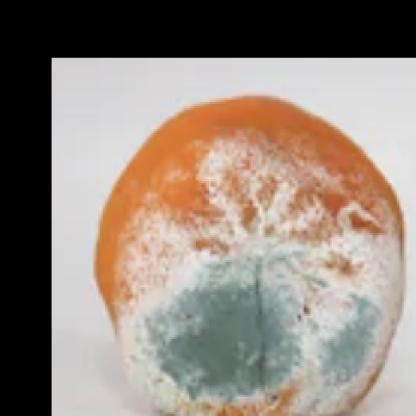rotten: (97, 96, 404, 416)
